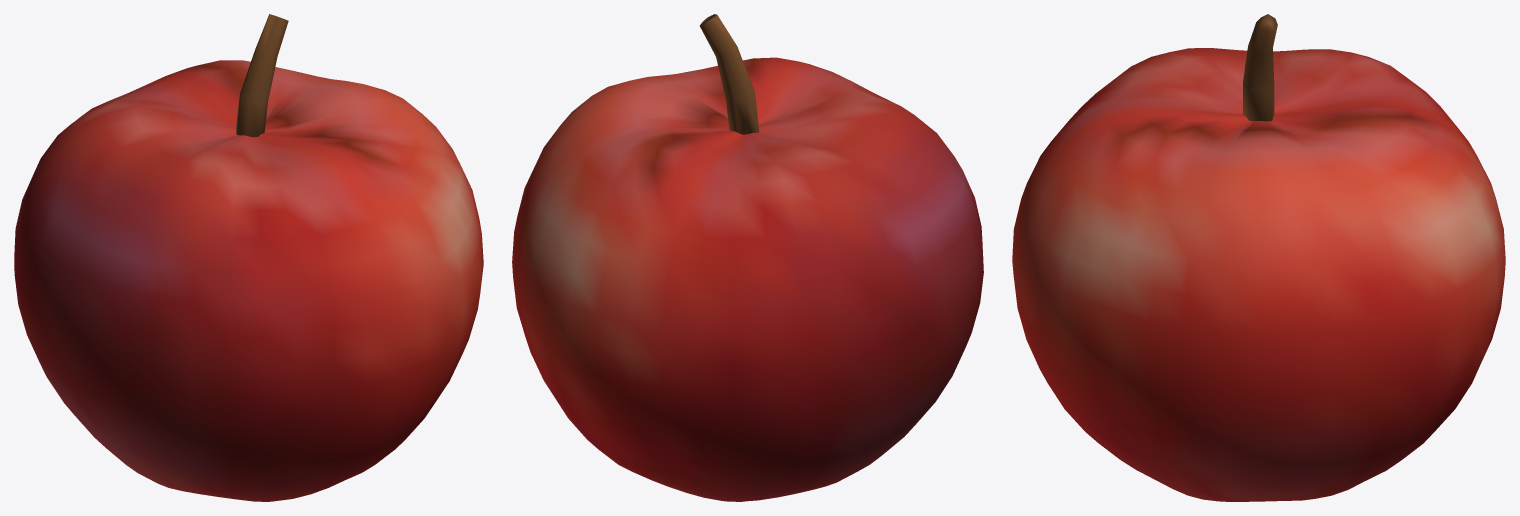
File: prop_apple_v01.glb
The picture shows the model from 3 angles, left to right: view 1: azimuth 30°, elevation 25°; view 2: azimuth 150°, elevation 25°; view 3: azimuth 270°, elevation 25°; orthographic projection. The views are drawn at different scales.
Parts seen in each view (by area): view 1: Plant; view 2: Plant; view 3: Plant.
Part boxes in pixels (left/top/right/bottom): Plant: left=14, top=14, right=483, bottom=501; Plant: left=512, top=14, right=983, bottom=501; Plant: left=1012, top=14, right=1505, bottom=501.
Bounding box in the file's own units: 0.3156 × 0.3335 × 0.3156.
